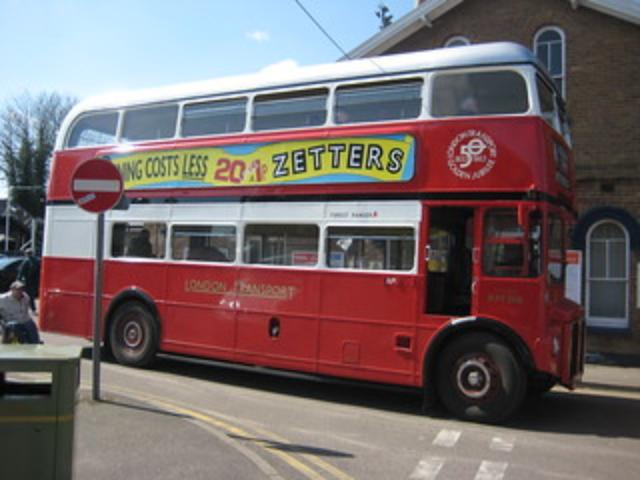bus: (38, 40, 586, 424)
